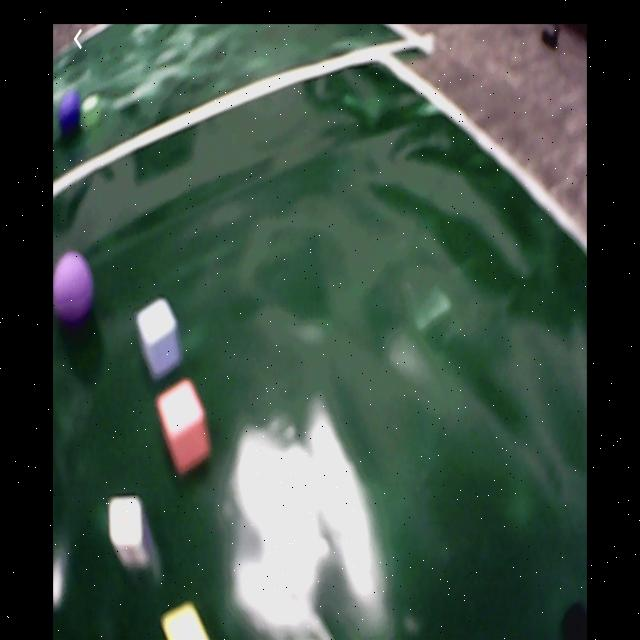ball: (54, 253, 92, 318), (59, 92, 80, 132)
